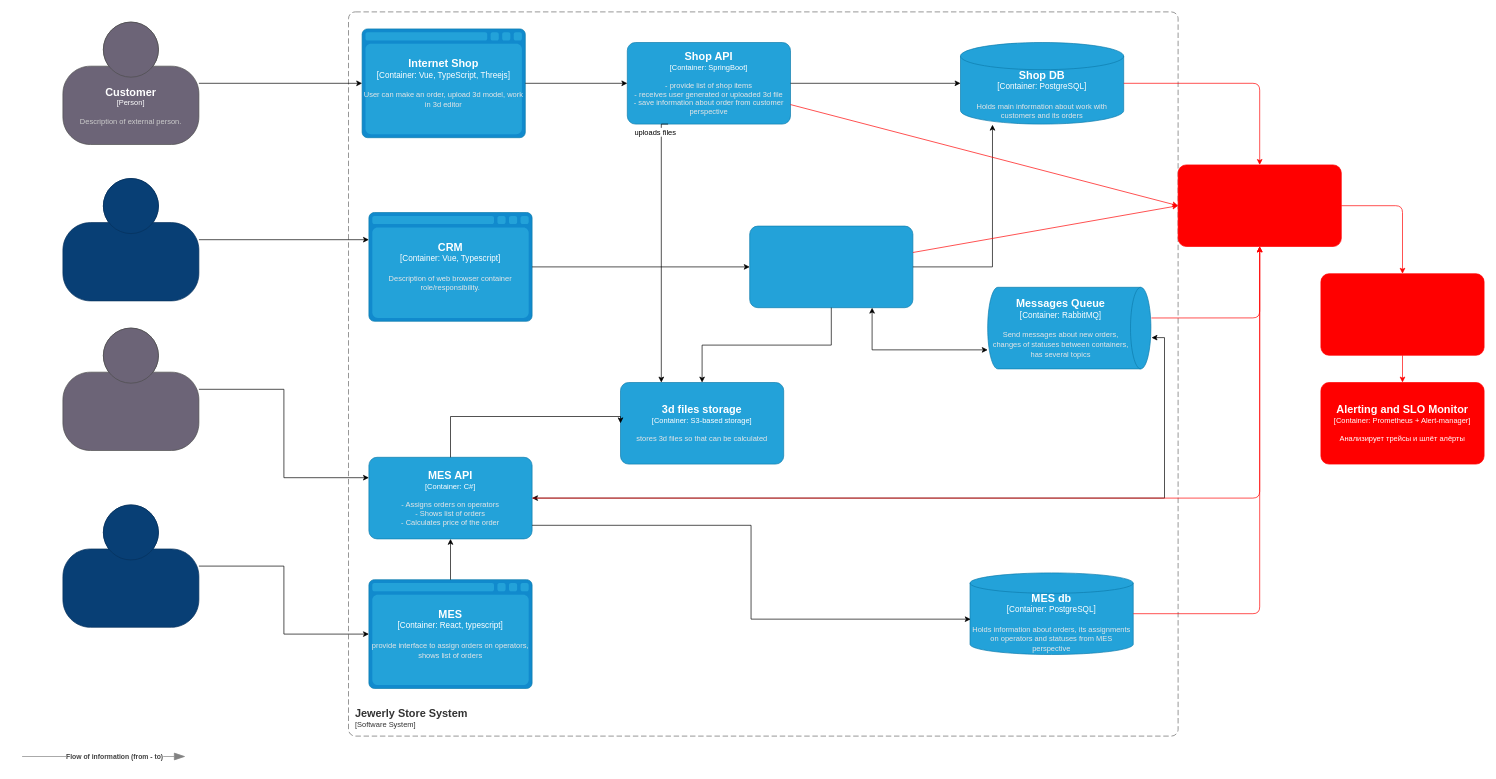
Some shapes in this 1496 by 779 pixel diagram are drawn without their labels. The shapes that lost their labels are listed below. From the top down, each one's centre as x and y in pixels, then its label:
point (1259, 205): OpenTelemetry Collector [Container: OpenTelemetry Collector] Собирает трейсы
point (130, 239): Seller [Person] Operates with order, confirms manufacturing for the user
point (831, 266): CRM API [Container: SpringBoot] Description of container role/responsibility.
point (1402, 314): Jaeger [Container: Jaeger] Хранит трейсы, предоставляет UI
point (130, 389): API user [Person] Description of external person.
point (130, 565): Operator [Person] Takes order in work, manufactures jewerly
